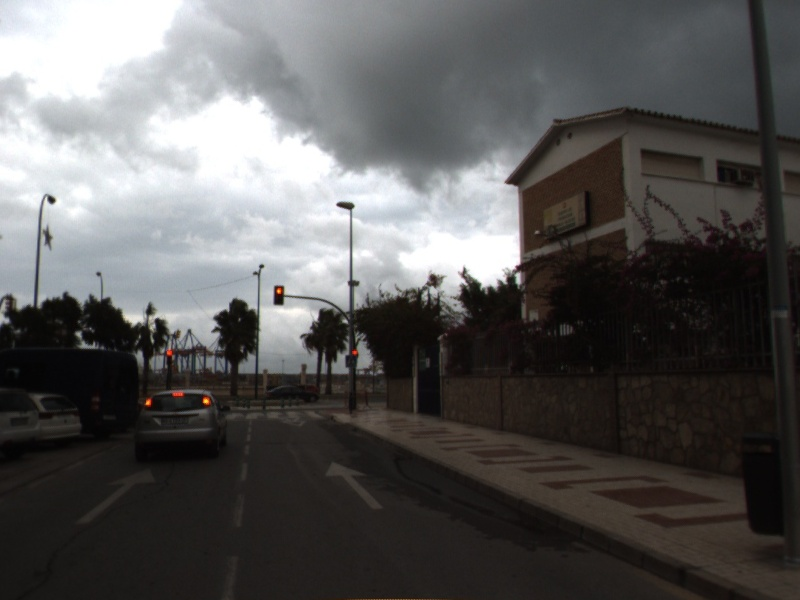STRAIGHT: (72, 466, 159, 527), (323, 459, 387, 511)
